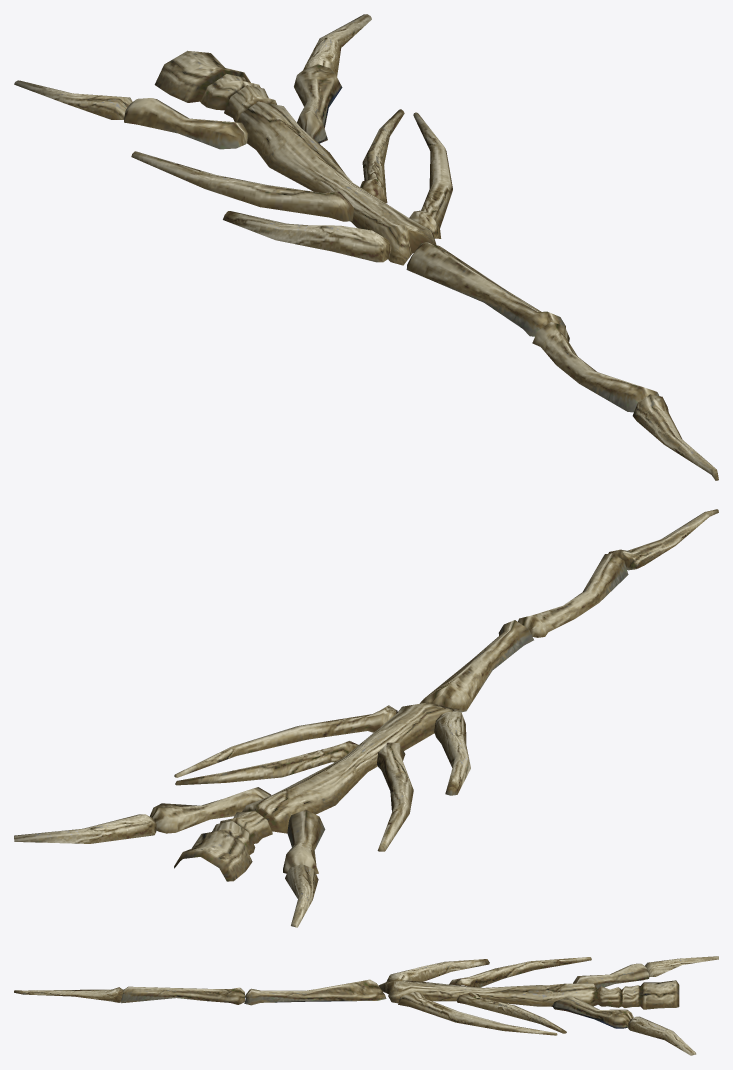
File: 7002_Item_gutou_2.FBX
The picture shows the model from 3 angles, top to bottom: view 1: azimuth 30°, elevation 25°; view 2: azimuth 150°, elevation 25°; view 3: azimuth 270°, elevation 25°; orthographic projection. The views are drawn at different scales.
Parts seen in each view (by area): view 1: 7002_Item_gutou_2; view 2: 7002_Item_gutou_2; view 3: 7002_Item_gutou_2.
Boxes of the visible parts, box(x1,y1,x2,y2) form: 7002_Item_gutou_2: box(14, 14, 718, 480); 7002_Item_gutou_2: box(14, 509, 718, 927); 7002_Item_gutou_2: box(14, 956, 718, 1055).
Bounding box in the file's own units: 129 × 10.72 × 388.
